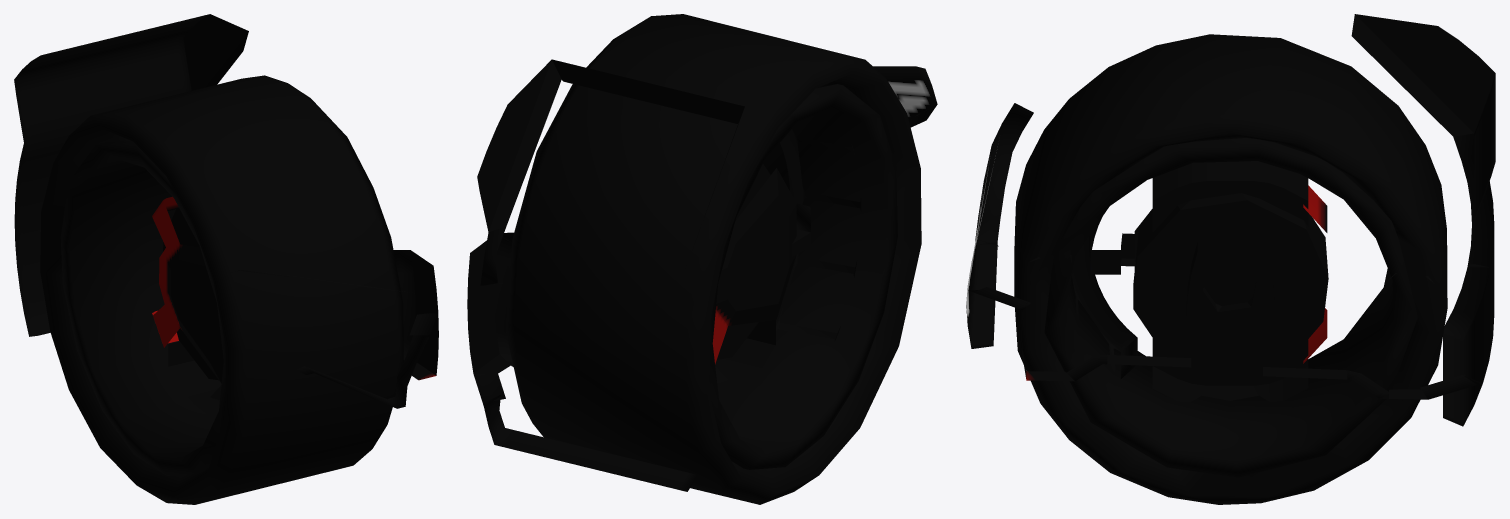
The model's file is Terrenator_frontRightWheel.obj.
The picture shows the model from 3 angles, left to right: view 1: azimuth 30°, elevation 25°; view 2: azimuth 150°, elevation 25°; view 3: azimuth 270°, elevation 25°; orthographic projection. The views are drawn at different scales.
Parts seen in each view (by area): view 1: FR, KPFR; view 2: FR, KPFR; view 3: FR, KPFR.
Part boxes in pixels (x1,y1,x2,y2): FR: (40, 75, 403, 504); KPFR: (14, 14, 438, 418); FR: (506, 14, 921, 504); KPFR: (467, 59, 937, 491); FR: (1014, 34, 1447, 504); KPFR: (966, 14, 1495, 426).
Bounding box in the file's own units: 1.16 × 2.01 × 2.37.
1 material, 1 textured.
